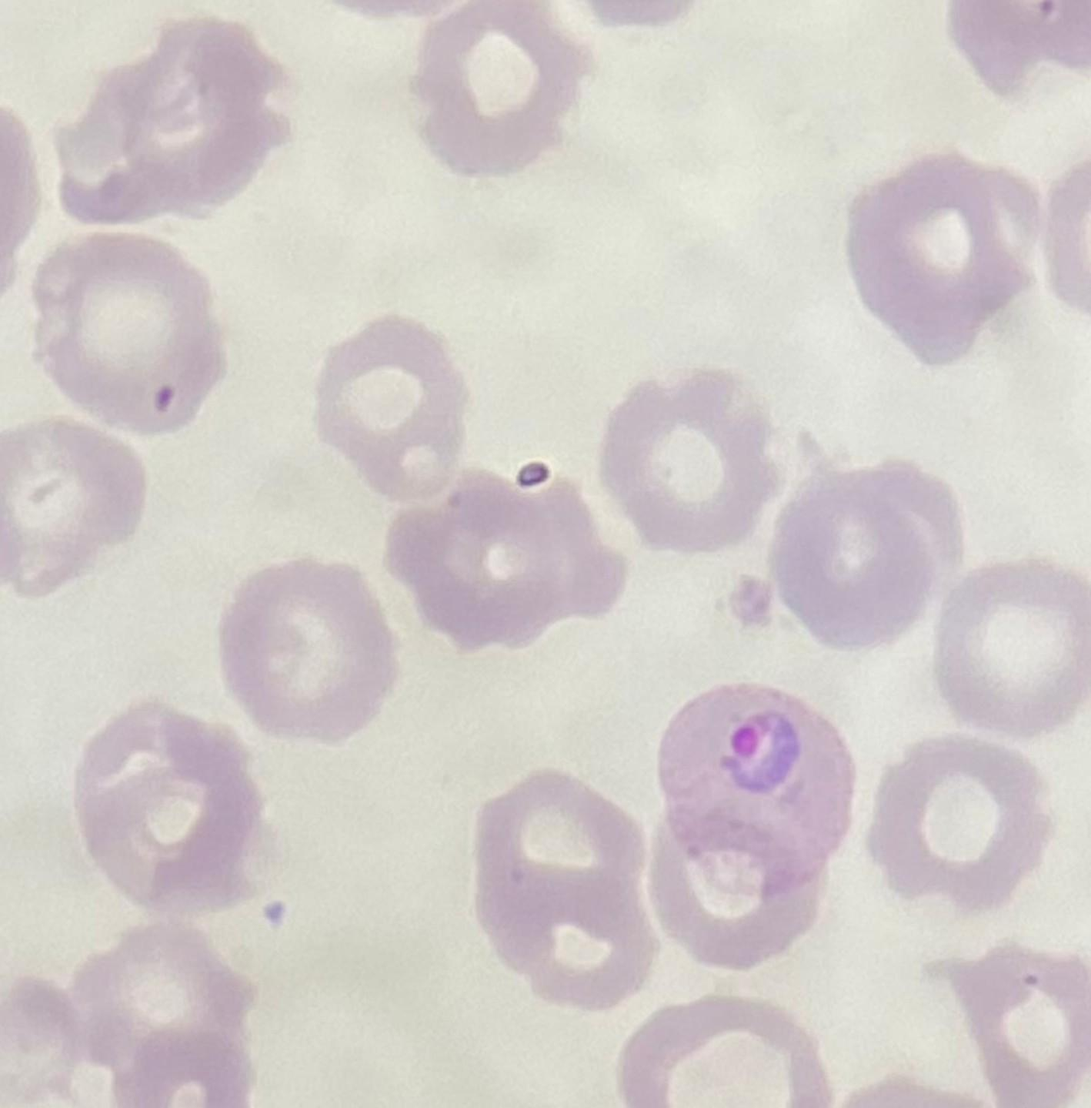Infected: (231, 210, 431, 425)
Uninfected: (814, 193, 1016, 399), (48, 743, 243, 950), (867, 670, 1057, 872), (685, 362, 871, 553), (798, 888, 969, 1095), (512, 457, 705, 638), (33, 193, 220, 368), (140, 455, 325, 630), (504, 930, 685, 1108), (319, 555, 491, 742), (625, 601, 780, 789), (835, 31, 1016, 184), (0, 374, 155, 548), (267, 147, 448, 294), (0, 0, 158, 168), (943, 509, 1091, 687), (256, 0, 475, 117), (448, 189, 612, 338), (433, 89, 608, 228)
